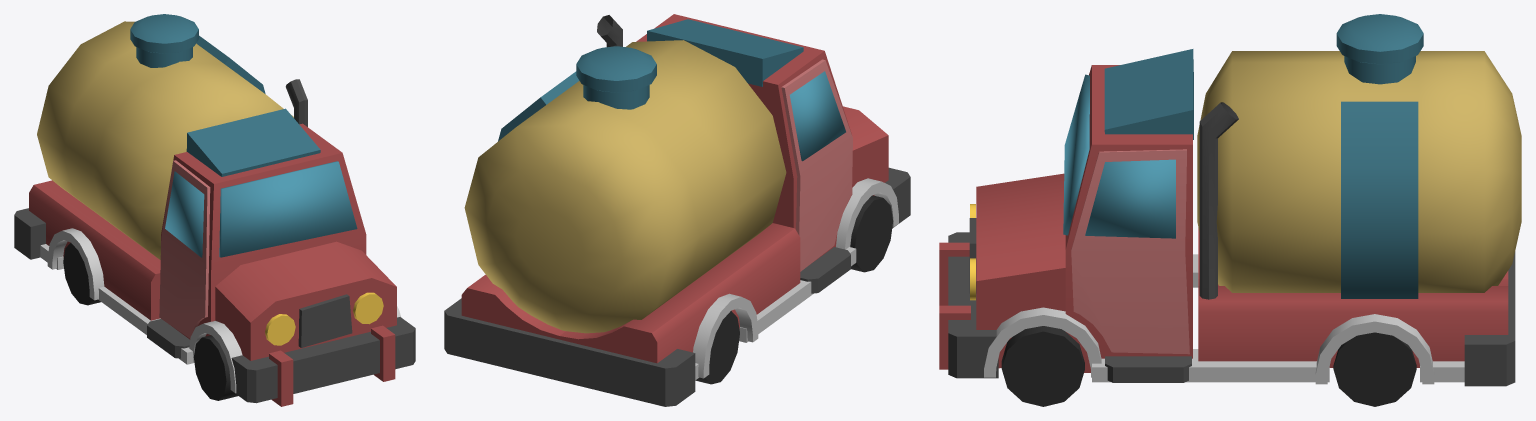
Rendered from FuelTruck.fbx.
The picture shows the model from 3 angles, left to right: view 1: azimuth 30°, elevation 25°; view 2: azimuth 150°, elevation 25°; view 3: azimuth 270°, elevation 25°; orthographic projection. The views are drawn at different scales.
Visible parts, largest first — view 1: FuelTruck, Polygon434r, Polygon2, Polygon323, Объект_Диск_2; view 2: FuelTruck, Polygon2, Polygon434r; view 3: FuelTruck, Polygon2, Polygon434r.
Part boxes in pixels (bbox=[...]): FuelTruck: bbox=[14, 14, 415, 406]; Polygon434r: bbox=[165, 161, 357, 257]; Polygon2: bbox=[159, 160, 210, 338]; Polygon323: bbox=[298, 294, 352, 347]; Объект_Диск_2: bbox=[265, 292, 383, 345]; FuelTruck: bbox=[444, 14, 910, 406]; Polygon2: bbox=[781, 59, 852, 271]; Polygon434r: bbox=[789, 71, 845, 161]; FuelTruck: bbox=[939, 14, 1521, 406]; Polygon2: bbox=[1071, 149, 1189, 354]; Polygon434r: bbox=[1063, 74, 1175, 238].
Size of the model in its own units: 244 by 302 by 490.
